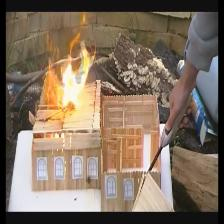fire: (46, 39, 88, 107)
